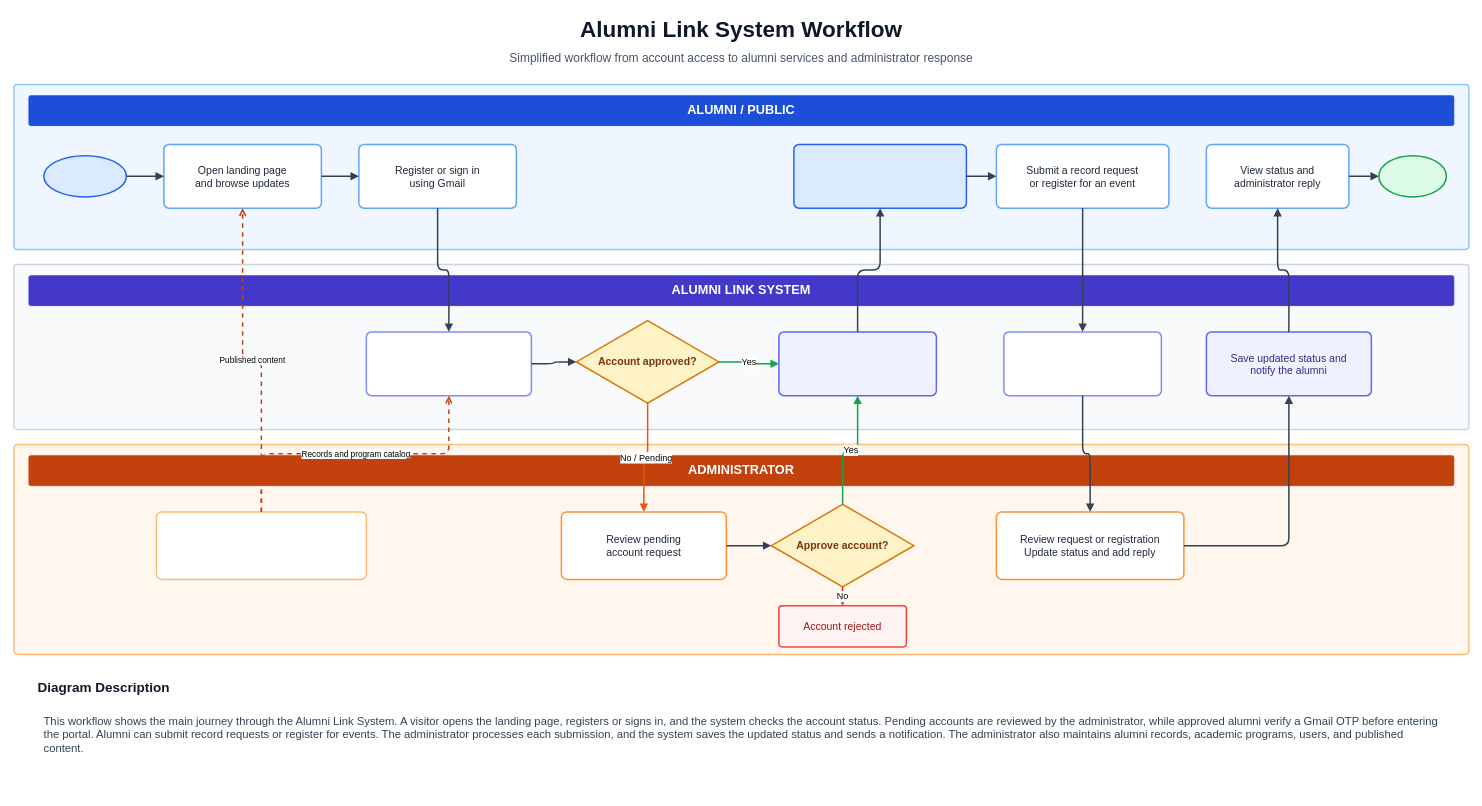
This 1482x806 diagram has some shape labels left out. Here are the shapes that lost their labels. From the top down, the centre of each, then its label:
At [85,175]: "Start".
At [880,175]: "Open alumni portal Dashboard • Profile • Updates".
At [1412,175]: "End".
At [448,363]: "Validate details and check account status".
At [857,363]: "Send and verify Gmail OTP".
At [1082,363]: "Validate and save the submission".
At [261,545]: "Manage alumni records, programs, users, and published content".
